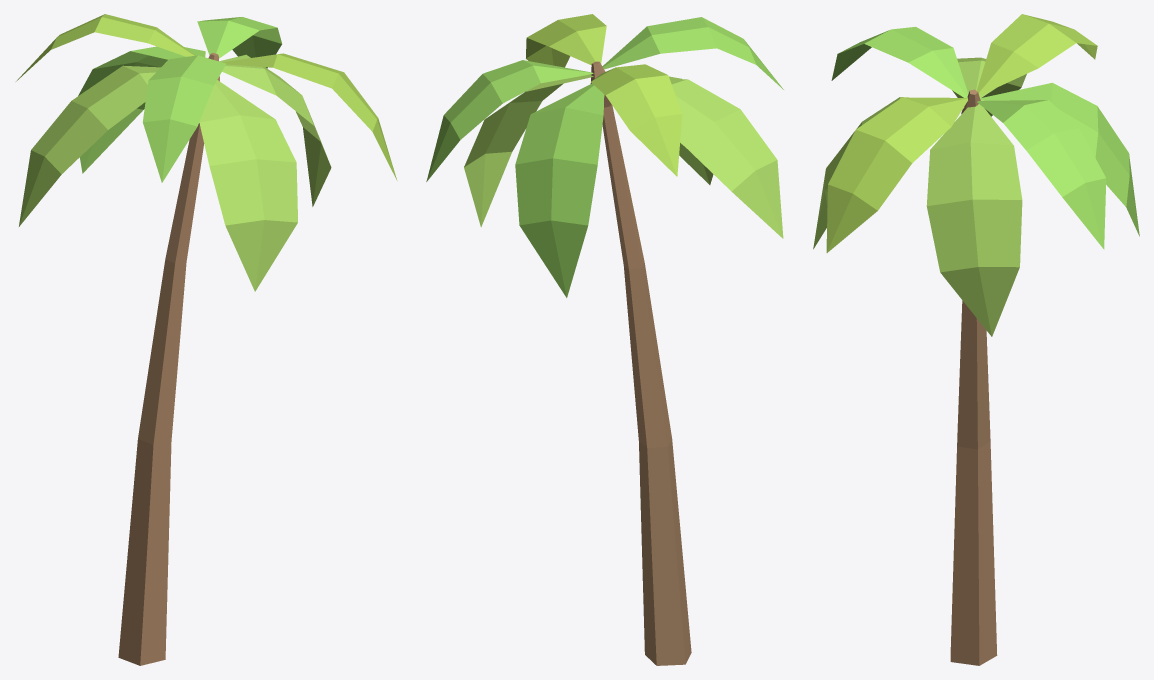
File: Palm_Tree_1.glb
3 renders of one model, left to right at view 1: azimuth 30°, elevation 25°; view 2: azimuth 150°, elevation 25°; view 3: azimuth 270°, elevation 25°, orthographic. The views are drawn at different scales.
Visible parts, largest first — view 1: Palm_Tree_m_02; view 2: Palm_Tree_m_02; view 3: Palm_Tree_m_02.
Boxes of the visible parts, left/top/right/bottom form: Palm_Tree_m_02: left=16, top=14, right=397, bottom=665; Palm_Tree_m_02: left=426, top=14, right=783, bottom=665; Palm_Tree_m_02: left=813, top=14, right=1139, bottom=665.
Size of the model in its own units: 1.9 by 3.59 by 1.69.
1 material, 1 textured.
